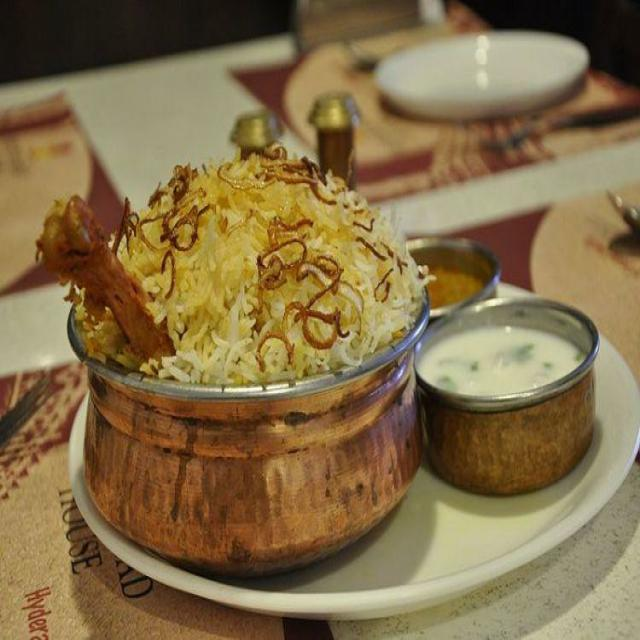Biryani: (71, 136, 419, 381)
